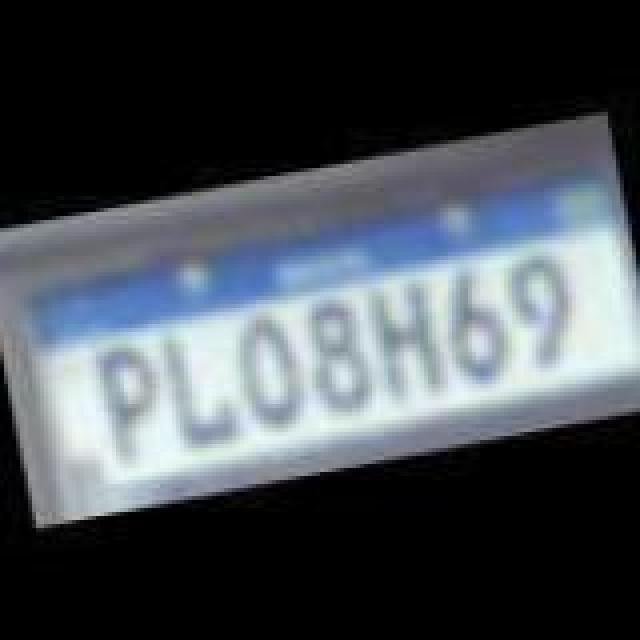6: (434, 256, 518, 380)
8: (296, 294, 376, 418)
9: (498, 246, 582, 370)
H: (366, 276, 450, 400)
L: (156, 322, 248, 450)
O: (224, 306, 312, 430)
P: (94, 342, 174, 466)
